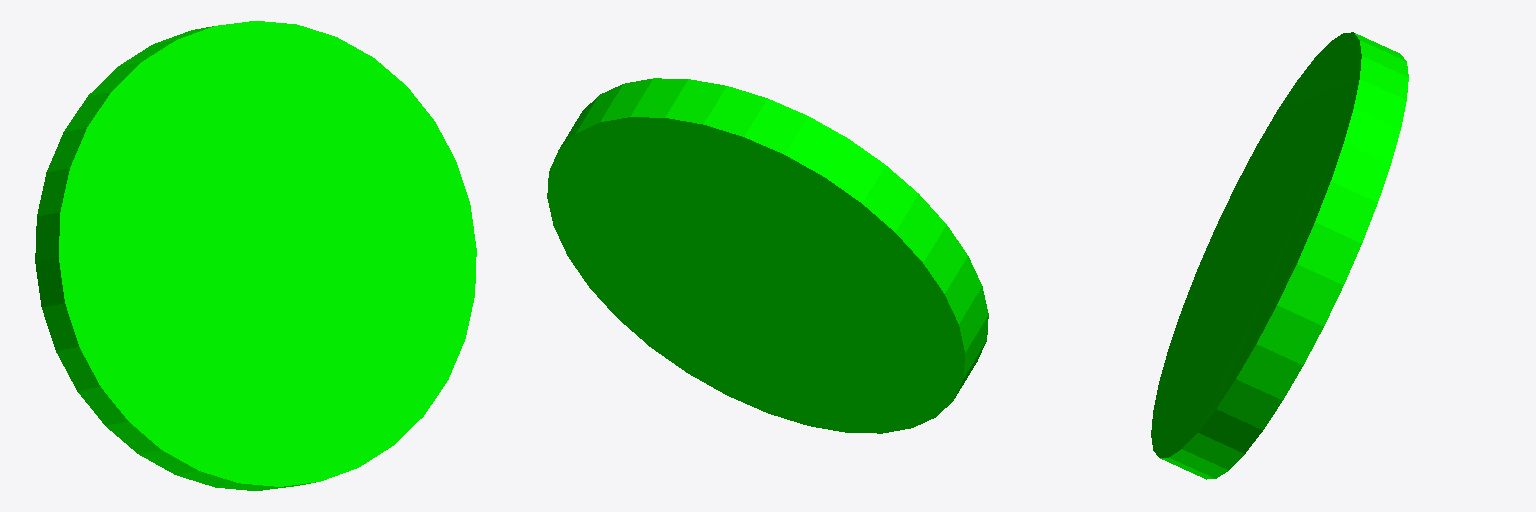
File: rc_icon.obj
The picture shows the model from 3 angles: view 1: azimuth 30°, elevation 25°; view 2: azimuth 150°, elevation 25°; view 3: azimuth 270°, elevation 25°; orthographic projection.
Visible parts, largest first — view 1: Cube.020; view 2: Cube.020; view 3: Cube.020.
Part boxes in pixels (left/top/right/bottom): Cube.020: left=35, top=21, right=476, bottom=490; Cube.020: left=547, top=78, right=988, bottom=433; Cube.020: left=1151, top=32, right=1408, bottom=479.
Bounding box in the file's own units: 0.006 × 0.0057 × 0.0033.